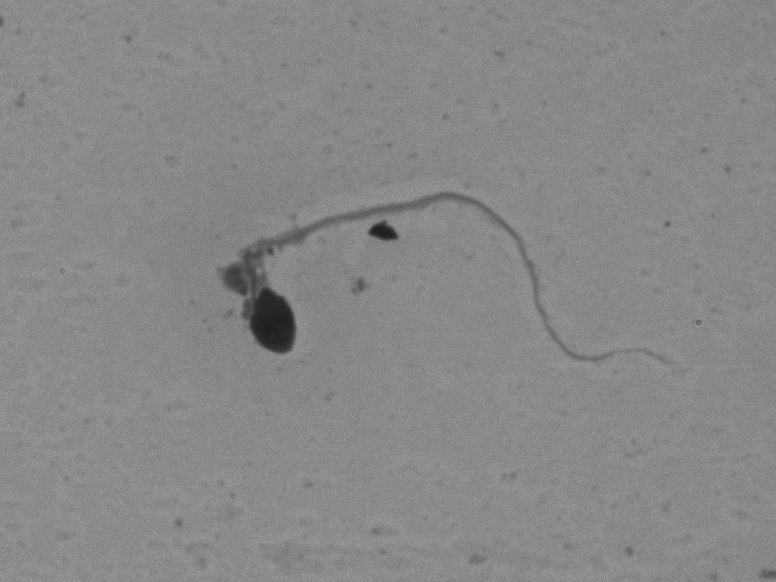Abnormal: (201, 171, 682, 421)
